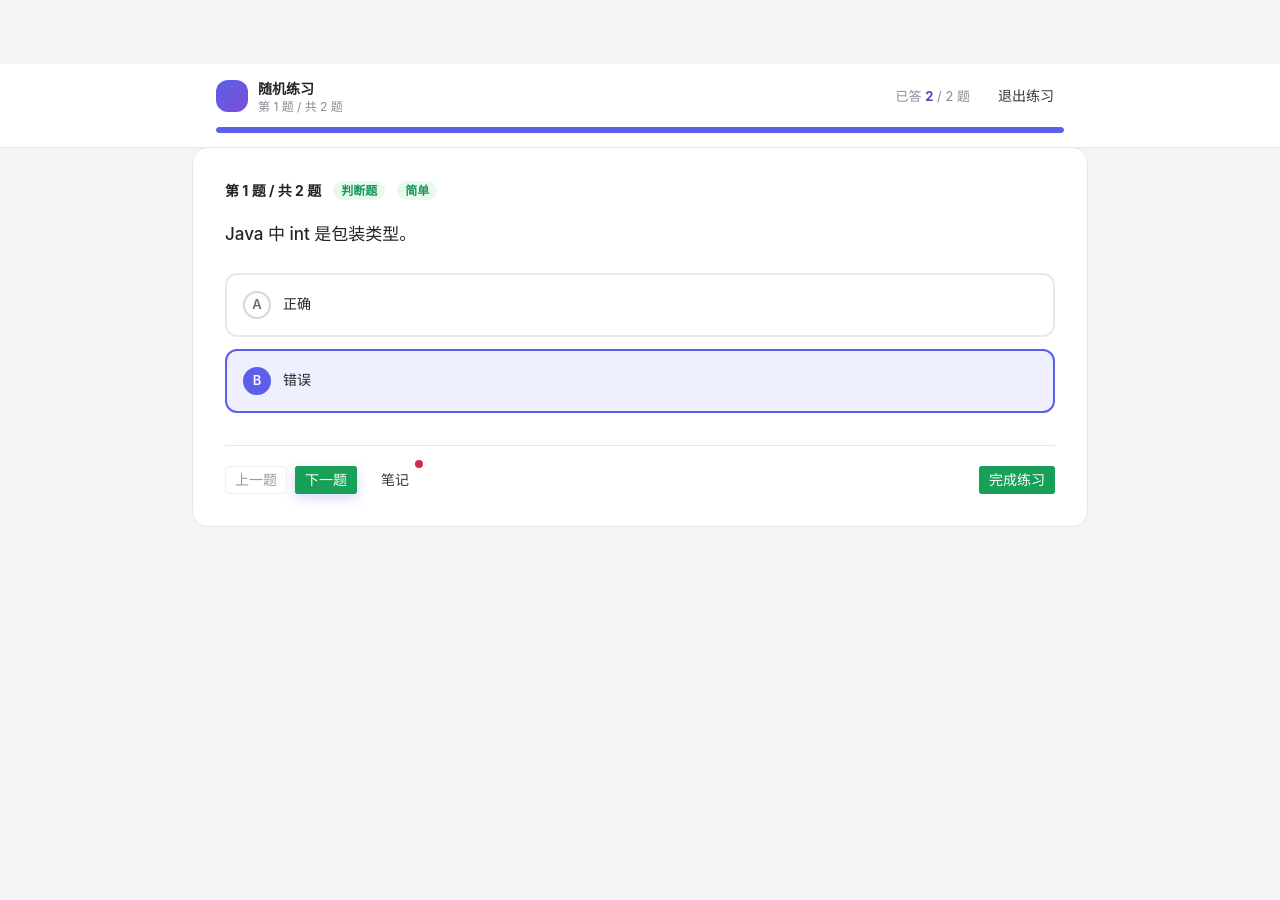
Test: PracticePage 自由练习页 › 对答案环节切题保持判分态，不回落作答界面（回归：只能评第一题）
Click the button "完成练习" at (1017,480), box x1=979 y1=466 x2=1055 y2=494
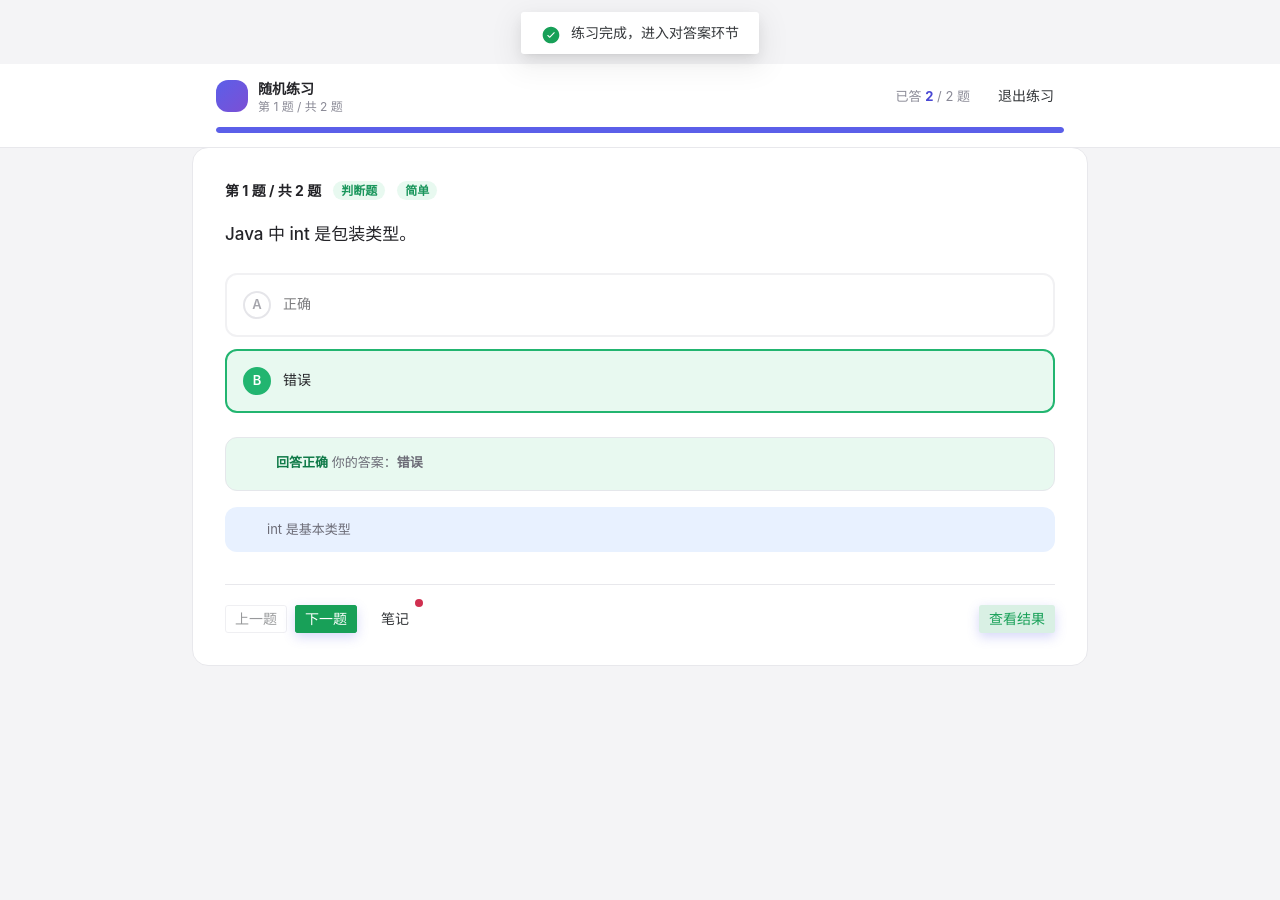
Check: the text "回答正确" is shown, box x1=276 y1=454 x2=328 y2=470
# 切到第 2 题：仍是判分态（第二题判错横幅可见），不是作答界面
Click the button "下一题" at (326,619), box x1=295 y1=605 x2=357 y2=633
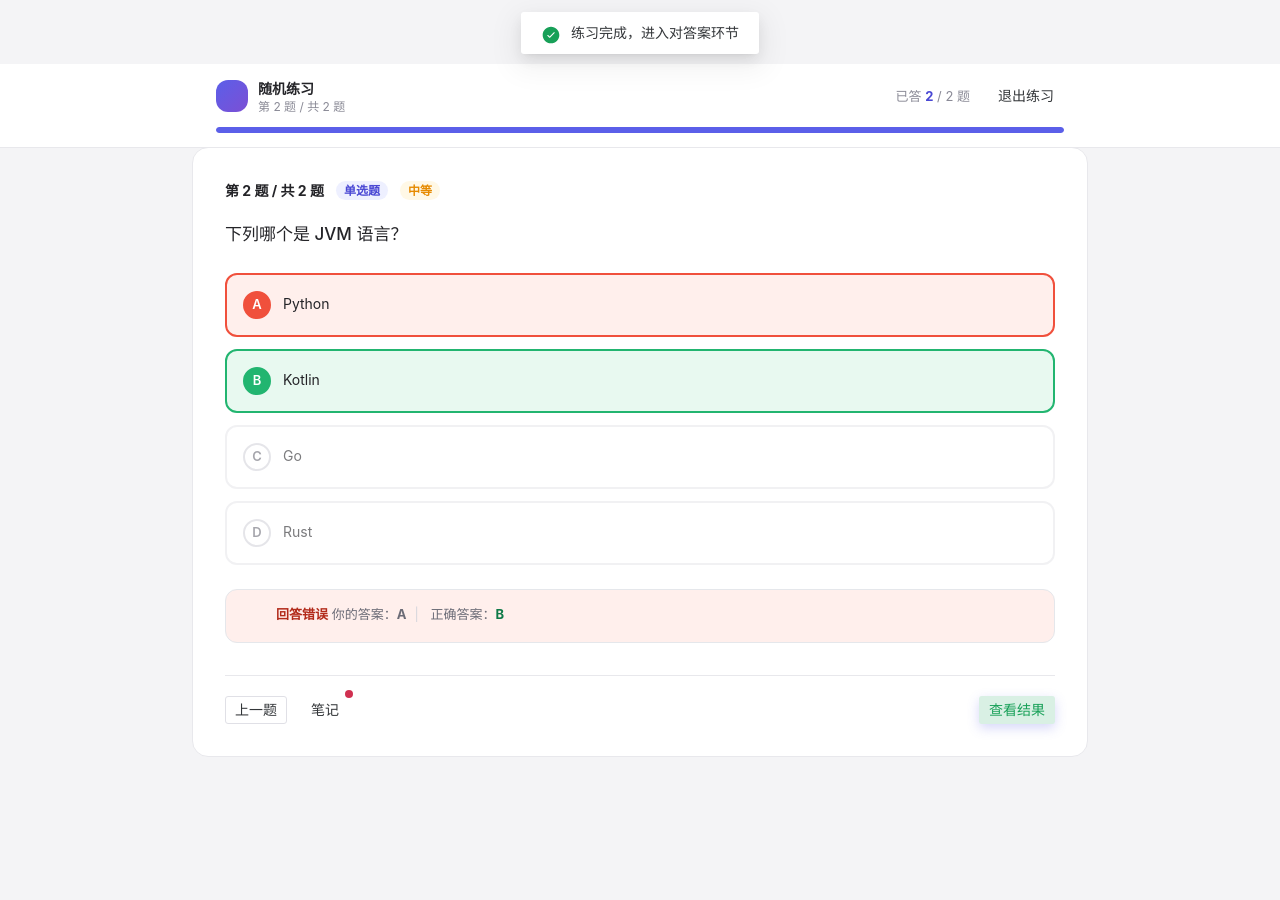
Check: the text "回答错误" is shown, box x1=276 y1=606 x2=328 y2=622
Check: the text "第 2 题 / 共 2 题" is shown, box x1=258 y1=99 x2=345 y2=115
